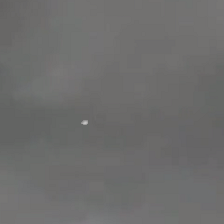Target: (81, 120, 88, 125)
